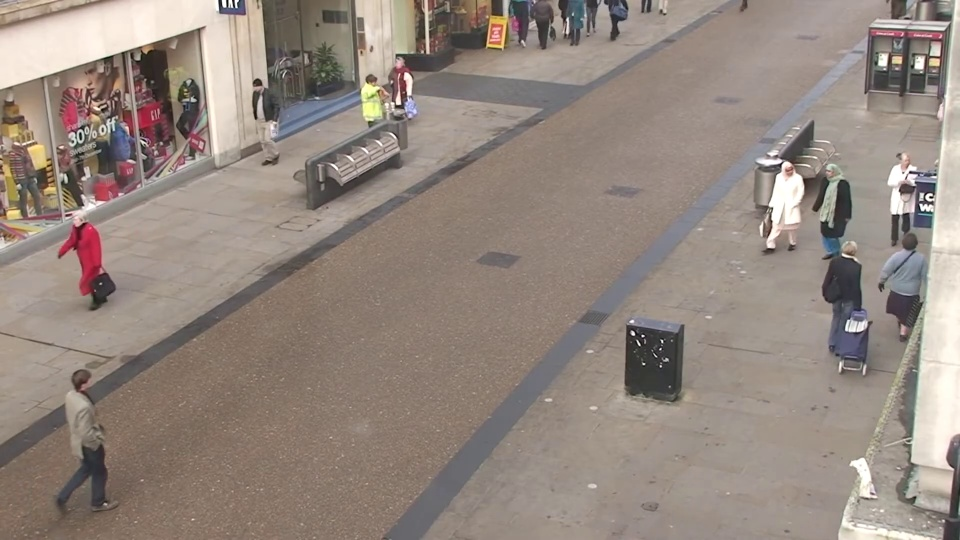pedestrian: (75, 350, 142, 506), (877, 223, 930, 349), (49, 209, 104, 327), (822, 231, 872, 358), (876, 148, 922, 255), (802, 161, 843, 270), (760, 157, 798, 264), (240, 80, 273, 163), (357, 70, 387, 153), (383, 55, 411, 133)
